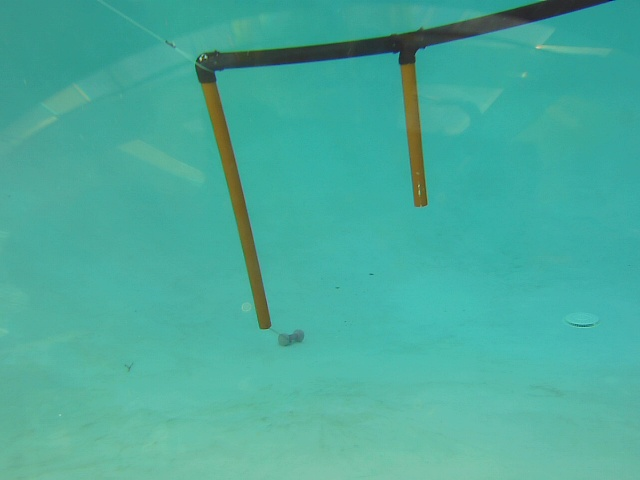Gate: (199, 79, 274, 332), (396, 54, 431, 208)
